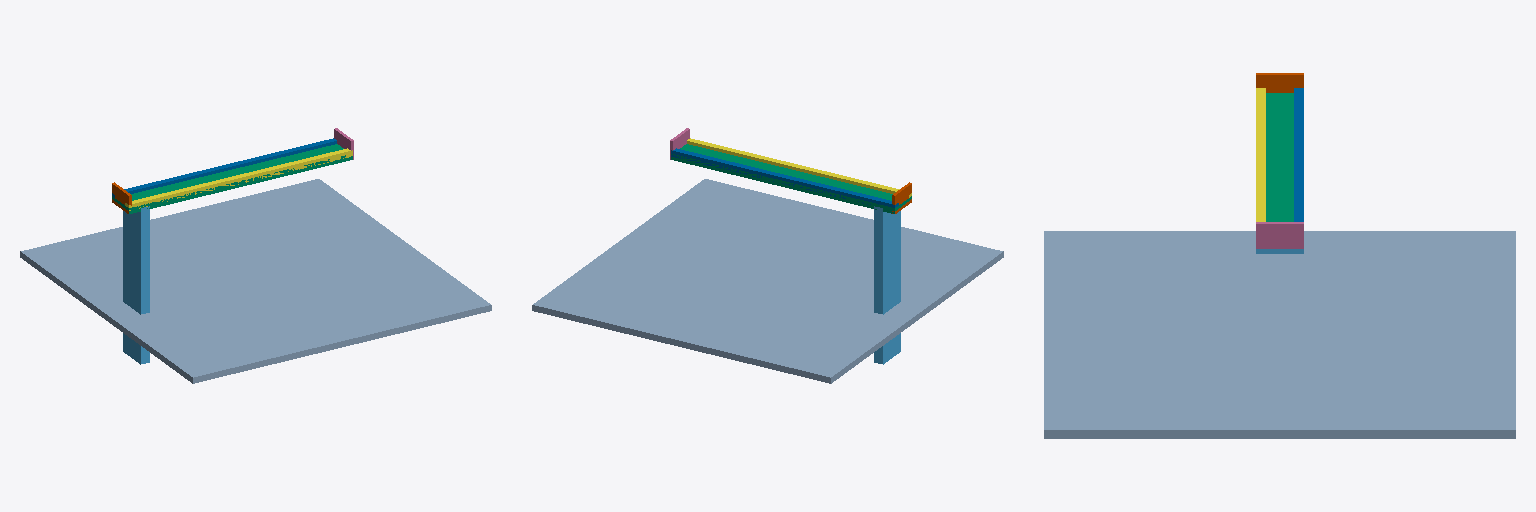
robot.urdf — ballbeam:
<?xml version="1.0"?> 
<robot name="ballbeam">
    <!-- Base Frame of Beam --> 
    <material name="black">
        <color rgba="0 0 0 1"/>
    </material>
    <material name="blue">
        <color rgba="0.6 0.7 0.8 1"/>
    </material>

    <!--Bottom plane-->
    <link name="base_link">
        <visual> 
            <geometry> 
                <box size="1 1 0.02"/>
            </geometry>
            <material name="blue"/>
        </visual> 
        <collision> 
            <geometry> 
                <box size="1 1 0.02"/>
            </geometry>
            <material name="blue"/>
        </collision> 
        <inertial> 
            <mass value="6"/>
            <inertia ixx="0.5002" ixy="0" ixz="0" iyy="0.5002" iyz="0.0" izz="1"/>
        </inertial> 
    </link>

    <!-- Left Rod -->
    <link name="left_rod">
        <visual>
            <geometry>
                <box size="0.03 0.1 0.5"/>
            </geometry>
            <origin rpy="0 0 0"/>
        </visual>
        <collision>
            <geometry>
                <box size="0.03 0.1 0.5"/>
            </geometry>
            <origin rpy="0 0 0"/>
        </collision>
        <inertial> 
            <mass value="2"/>
            <inertia ixx="0.043" ixy="0" ixz="0" iyy="0.042" iyz="0.0" izz="0.002"/>
        </inertial> 
    </link>

    <joint name="base_to_left_rod" type="fixed">
        <parent link="base_link"/>
        <child link="left_rod"/>
        <origin xyz="-0.40 0 0.1"/>
    </joint>

    <!-- Center Beam -->
    <link name="center_beam">
        <visual>
            <geometry>
                <box size="0.02 0.1 0.75"/>
            </geometry>
            <origin xyz="0.32 0 0.1 " rpy="0 1.57075 0"/>
        </visual>
        <collision>
            <geometry>
                <box size="0.02 0.1 0.75"/>
            </geometry>
            <origin xyz="0.32 0 0.1 " rpy="0 1.57075 0"/>
        </collision>
        <inertial> 
            <mass value="0.5"/>
            <inertia ixx="0.024" ixy="0" ixz="0" iyy="0.024" iyz="0.0" izz="0.0004"/>
        </inertial>

    </link>

    <!-- Right Track -->
    <link name="right_track">
        <visual>
            <geometry>
                <box size="0.02 0.02 0.75"/>
            </geometry>
            <origin xyz="0.32 0 0.1 " rpy="0 1.57075 0"/>
        </visual>
        <collision>
            <geometry>
                <box size="0.02 0.02 0.75"/>
            </geometry>
            <origin xyz="0.32 0 0.1 " rpy="0 1.57075 0"/>
        </collision>
         <inertial> 
            <mass value="0.25"/>
            <inertia ixx="0.012" ixy="0" ixz="0" iyy="0.012" iyz="0.0" izz="1.67"/>
        </inertial>

    </link>

    <!-- Left Track -->
    <link name="left_track">
        <visual>
            <geometry>
                <box size="0.02 0.02 0.75"/>
            </geometry>
            <origin xyz="0.32 0 0.1 " rpy="0 1.57075 0"/>
        </visual>
        <collision>
            <geometry>
                <box size="0.02 0.02 0.75"/>
            </geometry>
            <origin xyz="0.32 0 0.1 " rpy="0 1.57075 0"/>
        </collision>
         <inertial> 
            <mass value="0.25"/>
            <inertia ixx="0.012" ixy="0" ixz="0" iyy="0.012" iyz="0.0" izz="1.67"/>
        </inertial>

    </link>

    <!-- Right Track Joint w Center Beam-->
    <joint name="right_track_center_beam" type="fixed">
        <parent link="center_beam"/>
        <child link="right_track"/>
        <axis xyz="0 1 0"/>
        <origin xyz="0 -0.04 0.01"/>
    </joint>

     <!-- Left Track Joint w Center Beam-->
    <joint name="left_track_center_beam" type="fixed">
        <parent link="center_beam"/>
        <child link="left_track"/>
        <axis xyz="0 1 0"/>
        <origin xyz="0 0.04 0.01"/>
    </joint>

    <!-- Stopper -->
    <link name="left_stopper">
        <visual>
            <geometry>
                <box size="0.01 0.1 0.06"/>
            </geometry>
            <origin xyz="-0.05 0 0.1 " rpy="0 0 0"/>
        </visual>
        <collision>
            <geometry>
                <box size="0.01 0.1 0.06"/>
            </geometry>
            <origin xyz="-0.05 0 0.1 " rpy="0 0 0"/>
        </collision>
         <inertial> 
            <mass value="0.125"/>
            <inertia ixx="0.00014" ixy="0" ixz="0" iyy="3.85" iyz="0.0" izz="0.0001"/>
        </inertial>
    </link>

    <!-- Stopper -->
    <link name="right_stopper">
        <visual>
            <geometry>
                <box size="0.01 0.1 0.06"/>
            </geometry>
            <origin xyz="0.32 0 0.1 " rpy="0 0 0"/>
        </visual>
        <collision>
            <geometry>
                <box size="0.01 0.1 0.06"/>
            </geometry>
            <origin xyz="0.32 0 0.1 " rpy="0 0 0"/>
        </collision>
            <inertial> 
            <mass value="0.125"/>
            <inertia ixx="0.00014" ixy="0" ixz="0" iyy="3.85" iyz="0.0" izz="0.0001"/>
        </inertial>
    </link>

    <joint name="right_stopper_to_center_beam" type="fixed">
        <parent link="center_beam"/>
        <child link="right_stopper"/>
        <axis xyz="0 1 0"/>
        <origin xyz="0.375 0 0.02"/>
    </joint>

    <joint name="left_stopper_to_center_beam" type="fixed">
        <parent link="center_beam"/>
        <child link="left_stopper"/>
        <axis xyz="0 1 0"/>
        <origin xyz="0 0 0.02"/>
    </joint>



    <joint name="rod_to_center_beam" type="continuous">
        <parent link="left_rod"/>
        <child link="center_beam"/>
        <axis xyz="0 1 0"/>
        <origin xyz="0 0 .15"/>
        <limit effort="100" lower="-0.2" upper="0.2" velocity="100"/>
    </joint>
</robot>

--- Facts derived from the render (not from the file) ---
The picture shows the robot from 3 angles, left to right: view 1: azimuth 30°, elevation 25°; view 2: azimuth 150°, elevation 25°; view 3: azimuth 270°, elevation 25°; orthographic projection.
Robot: ballbeam — 7 links, 6 joints (1 continuous, 5 fixed); root link base_link; default pose: every joint at zero.
Visible links, largest first — view 1: base_link, left_rod, center_beam, right_track, left_track; view 2: base_link, left_rod, center_beam, left_track, right_track; view 3: base_link, center_beam, right_track, left_track, right_stopper, left_stopper.
Boxes of the visible links, x1,y1,x2,y2 form: base_link: (20,179,491,383); left_rod: (123,206,149,364); center_beam: (112,144,352,213); right_track: (125,148,352,210); left_track: (112,138,336,197); base_link: (532,179,1003,383); left_rod: (874,206,900,364); center_beam: (671,144,911,213); left_track: (671,148,898,207); right_track: (687,138,911,197); base_link: (1044,231,1515,438); center_beam: (1266,93,1293,221); right_track: (1256,88,1265,221); left_track: (1294,88,1303,221); right_stopper: (1256,222,1303,248); left_stopper: (1256,73,1303,92).
Bounding box of the posed robot: 1 × 1 × 0.55 m (x, y, z).
Geometry: primitives only (box / cylinder / sphere), no mesh files.